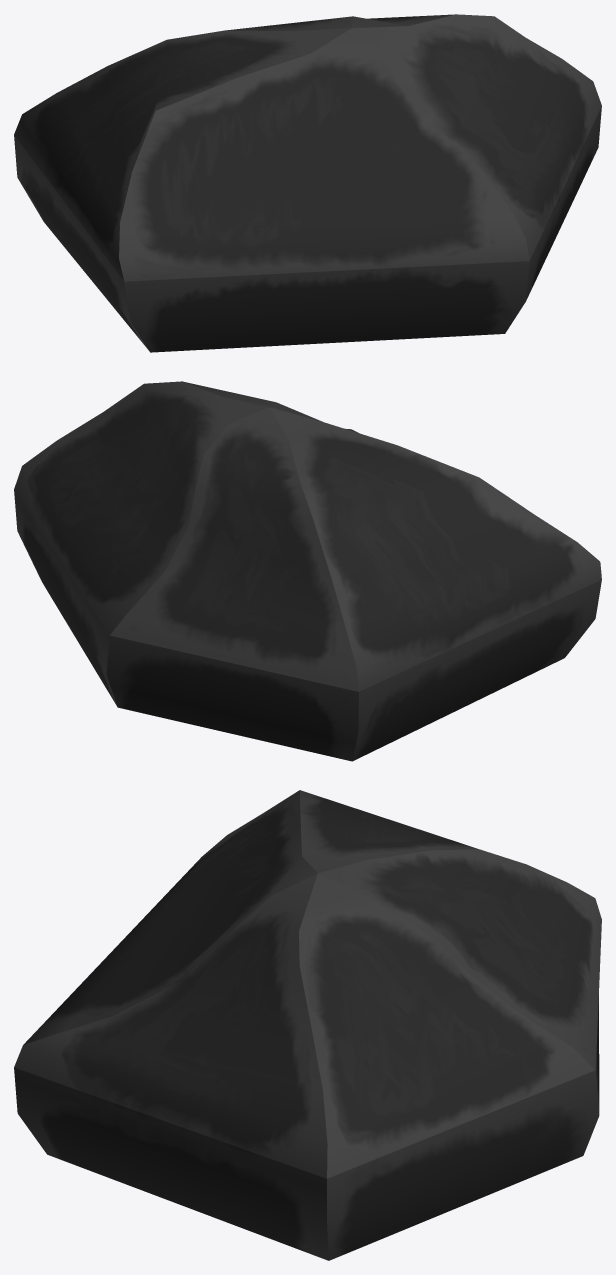
The model's file is rock2.fbx.
3 renders of one model, top to bottom at view 1: azimuth 30°, elevation 25°; view 2: azimuth 150°, elevation 25°; view 3: azimuth 270°, elevation 25°, orthographic. The views are drawn at different scales.
Visible parts, largest first — view 1: Sphere.001; view 2: Sphere.001; view 3: Sphere.001.
Boxes of the visible parts, box(x1,y1,x2,y2) form: Sphere.001: box(14, 14, 601, 352); Sphere.001: box(14, 381, 601, 761); Sphere.001: box(14, 790, 601, 1260).
Bounding box in the file's own units: 587 × 238 × 484.
